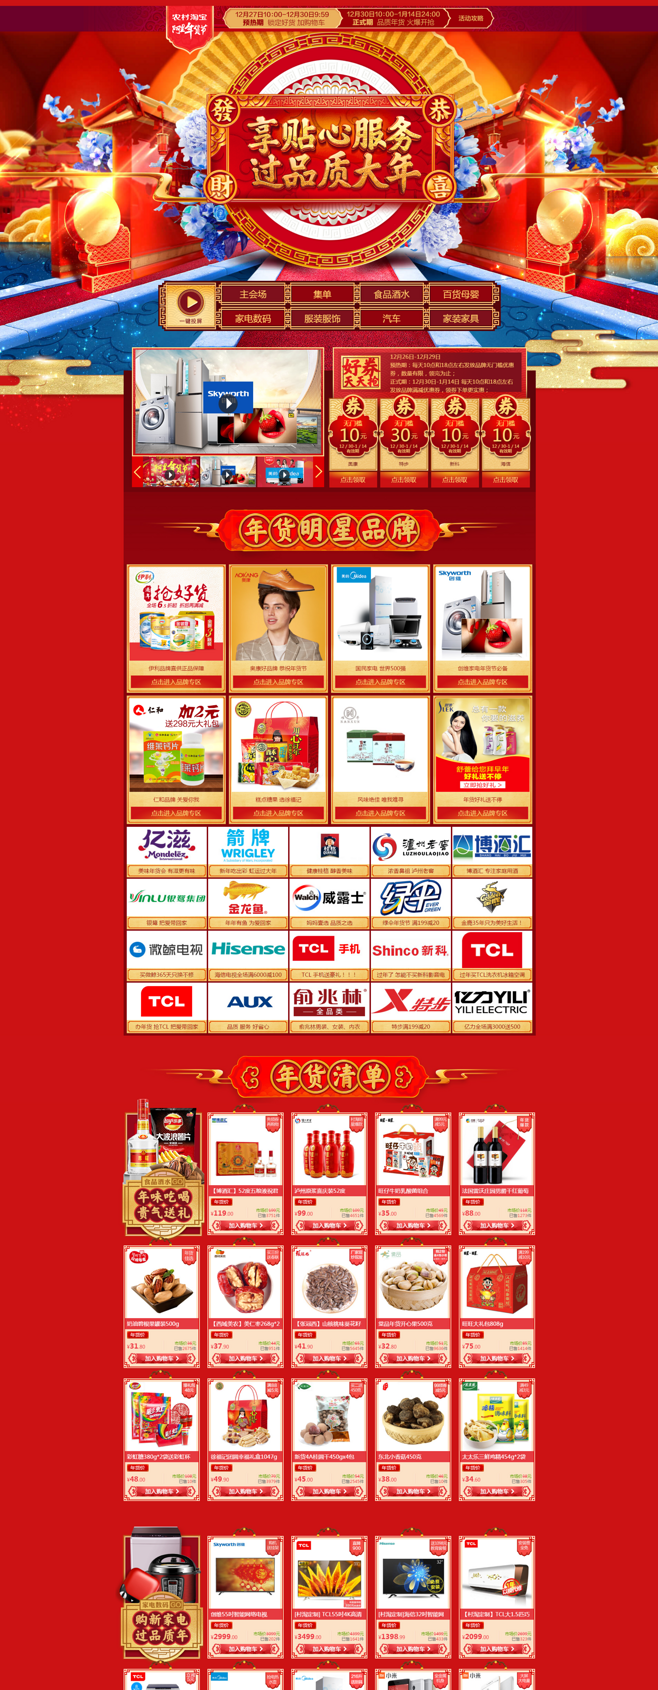floors: (122, 1052, 538, 1690), (124, 502, 537, 1037), (122, 343, 537, 494)
toutu: (2, 6, 658, 336)
